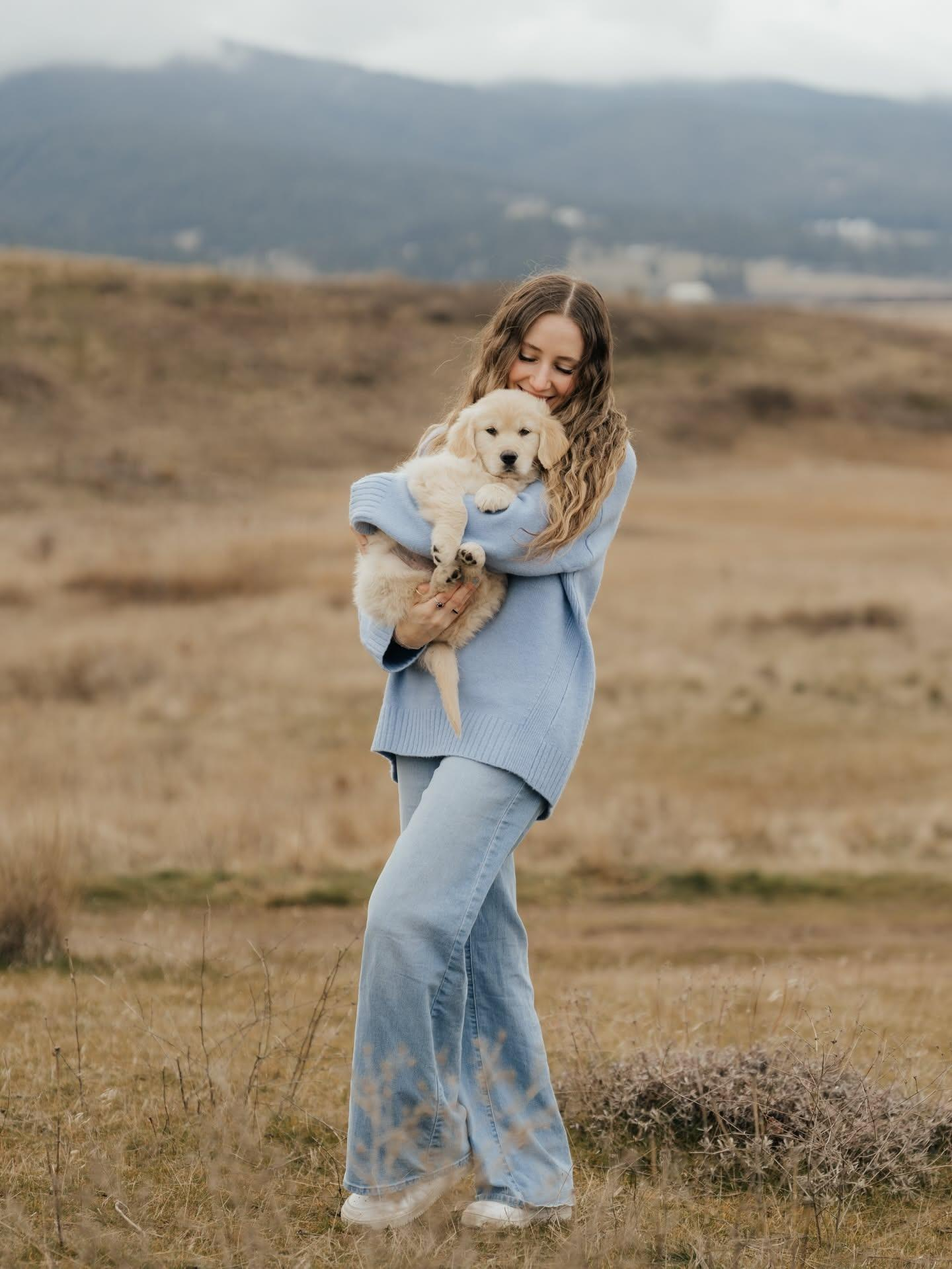non-dog: (339, 272, 638, 1235)
puppy-dog: (352, 389, 571, 736)
